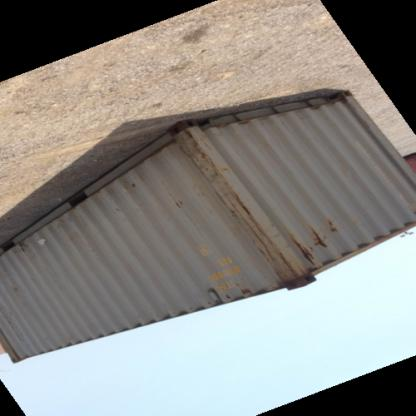Damage: (177, 115, 223, 174), (296, 218, 341, 267), (10, 236, 51, 262), (306, 99, 346, 121), (162, 188, 190, 217), (218, 278, 253, 300), (125, 176, 143, 196), (7, 286, 26, 300)
